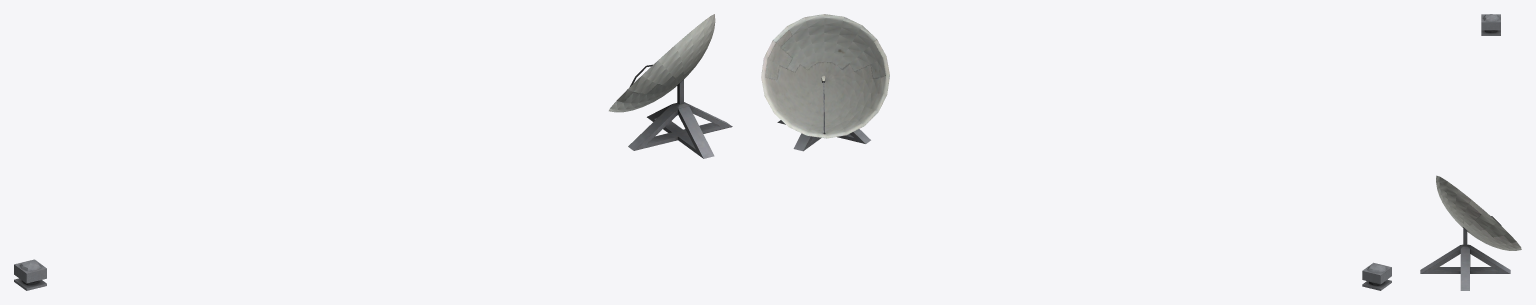
Rendered from Hangar_Detail.fbx.
3 views of the same model, side by side, from view 1: azimuth 30°, elevation 25°; view 2: azimuth 150°, elevation 25°; view 3: azimuth 270°, elevation 25° (orthographic). The views are drawn at different scales.
Parts seen in each view (by area): view 1: Hangar_Detail:HangarAtlased_Detail; view 2: Hangar_Detail:HangarAtlased_Detail; view 3: Hangar_Detail:HangarAtlased_Detail.
Boxes of the visible parts, <box> form: Hangar_Detail:HangarAtlased_Detail: <box>14,14,732,290</box>; Hangar_Detail:HangarAtlased_Detail: <box>761,14,1391,290</box>; Hangar_Detail:HangarAtlased_Detail: <box>1420,14,1521,290</box>.
Size of the model in its own units: 1864 by 321 by 299.
1 material, 1 textured.
